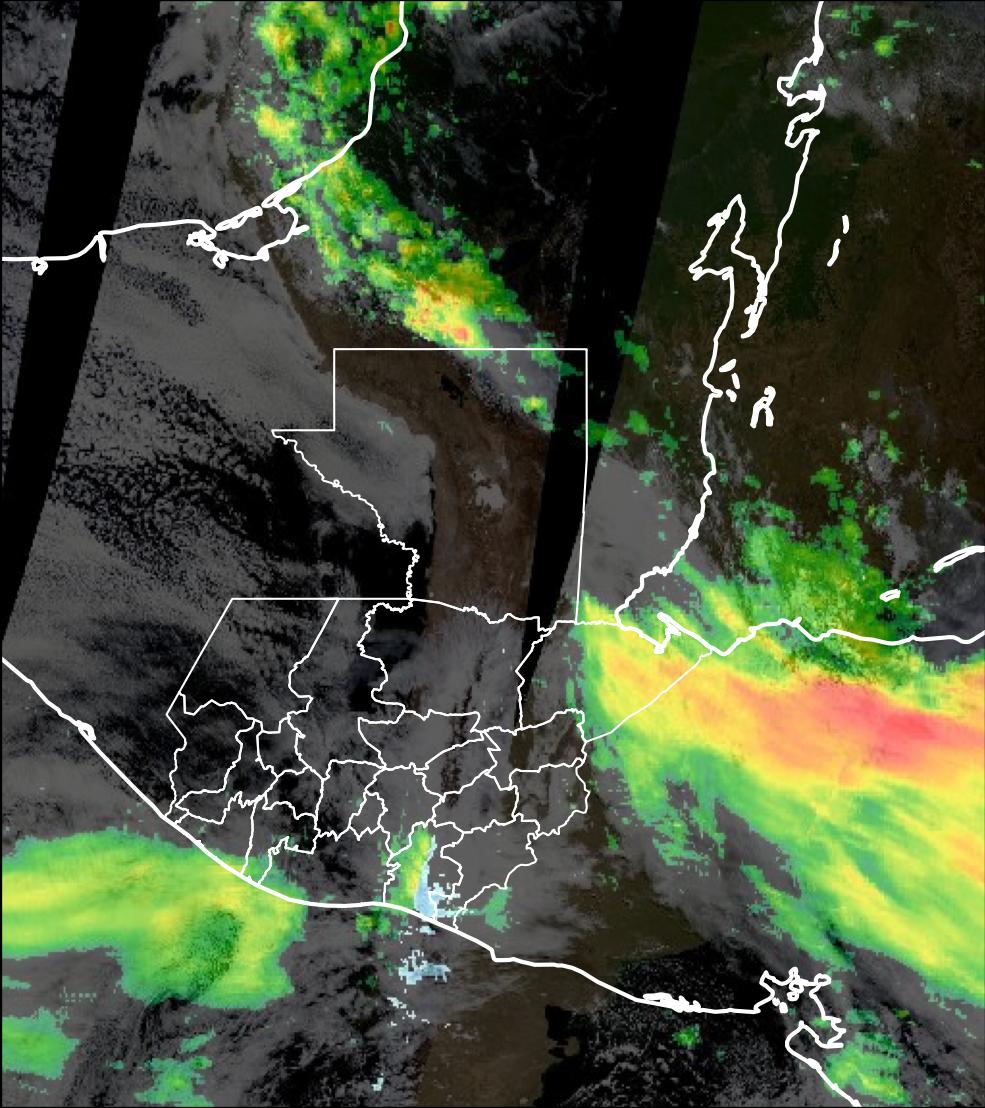precipitacion: (619, 636, 985, 820)
